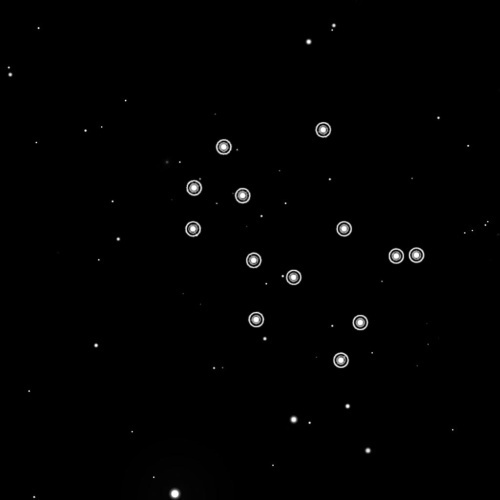gemini: (183, 115, 427, 374)
